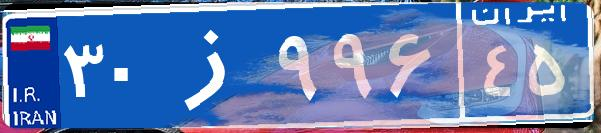0: (110, 28, 158, 105)
3: (57, 26, 110, 107)
4: (475, 38, 525, 113)
5: (525, 38, 570, 115)
6: (385, 28, 445, 110)
9: (273, 28, 330, 110), (330, 28, 385, 110)
ز: (158, 15, 273, 115)
